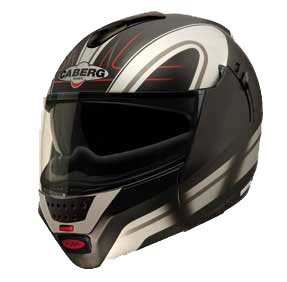helmet: (34, 13, 266, 262)
